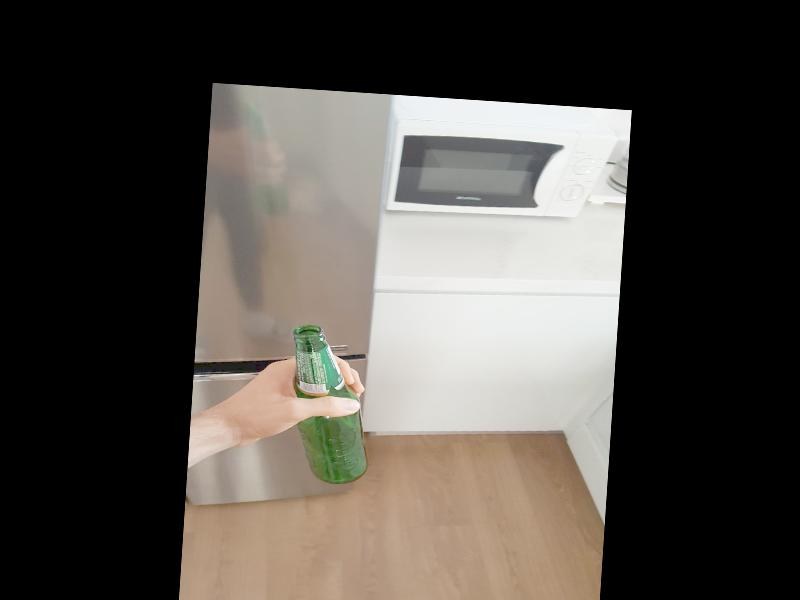Beer: (283, 324, 374, 486)
